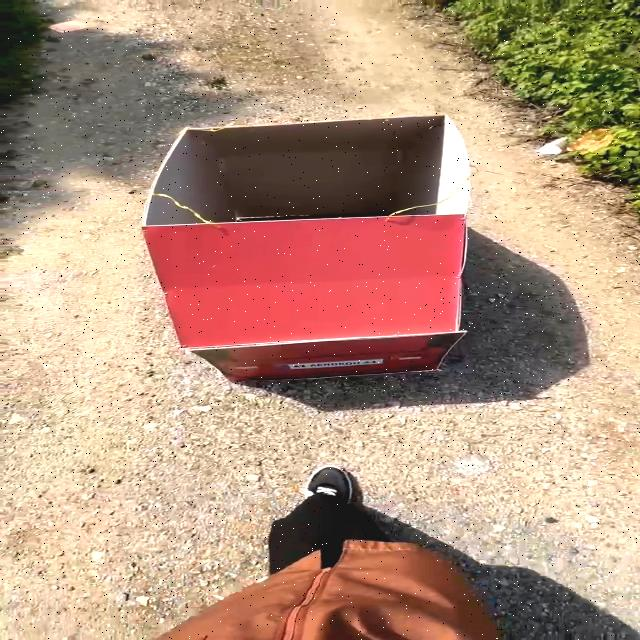red_car: (118, 98, 504, 411)
